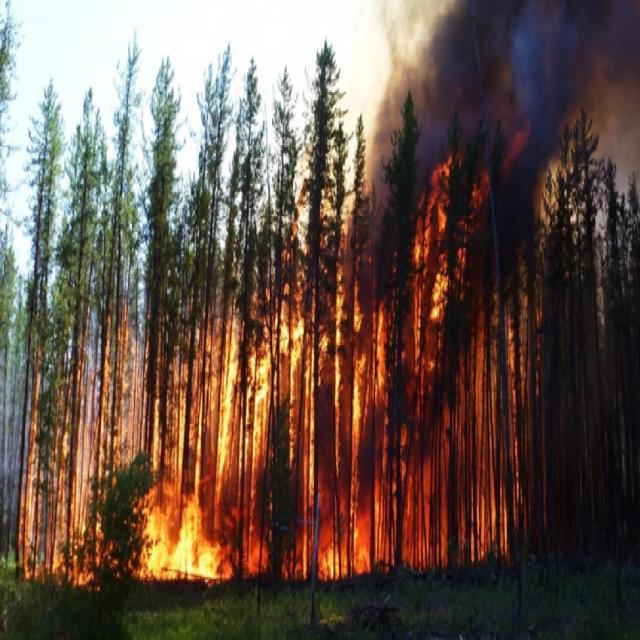Fire: (23, 148, 551, 588), (26, 293, 534, 579), (246, 218, 535, 590), (130, 460, 244, 602)
Smoke: (350, 3, 640, 197)
